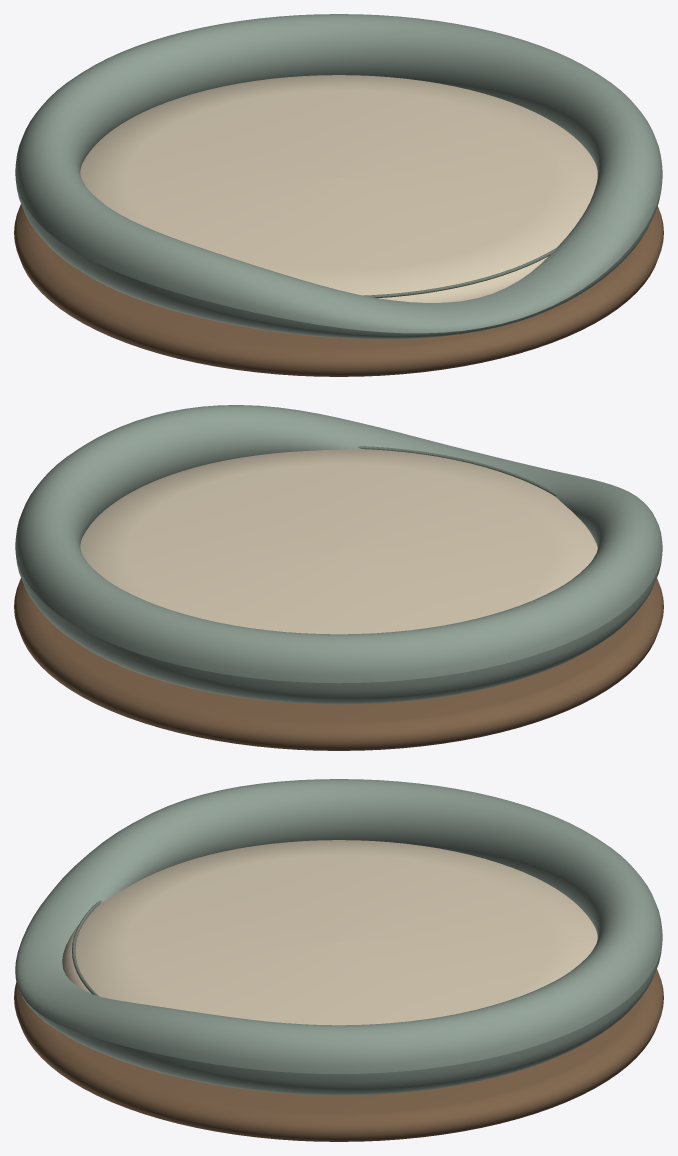
The model's file is dog_nest.glb.
3 views of the same model, one above another, from view 1: azimuth 30°, elevation 25°; view 2: azimuth 150°, elevation 25°; view 3: azimuth 270°, elevation 25° (orthographic).
Visible parts, largest first — view 1: Soft round sleeping cushion, Continuous round bolster, Circular walnut plinth, Tailored cushion piping; view 2: Continuous round bolster, Soft round sleeping cushion, Circular walnut plinth, Tailored cushion piping; view 3: Continuous round bolster, Soft round sleeping cushion, Circular walnut plinth.
Part boxes in pixels (x1,y1,x2,y2): Soft round sleeping cushion: (80,75,597,302); Continuous round bolster: (15,14,662,339); Circular walnut plinth: (14,204,663,376); Tailored cushion piping: (364,247,557,298); Continuous round bolster: (15,405,662,704); Soft round sleeping cushion: (80,449,597,634); Circular walnut plinth: (14,578,663,750); Tailored cushion piping: (358,446,557,496); Continuous round bolster: (15,779,662,1095); Soft round sleeping cushion: (62,840,597,1025); Circular walnut plinth: (14,969,663,1141).
Size of the model in its own units: 1.1 by 0.199 by 1.1.
